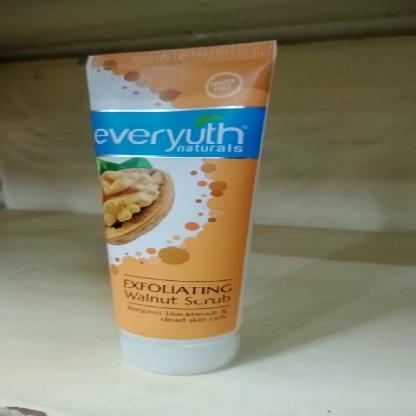EY EXF WALNUT SCRUB AYR 200G: (80, 38, 288, 376)
